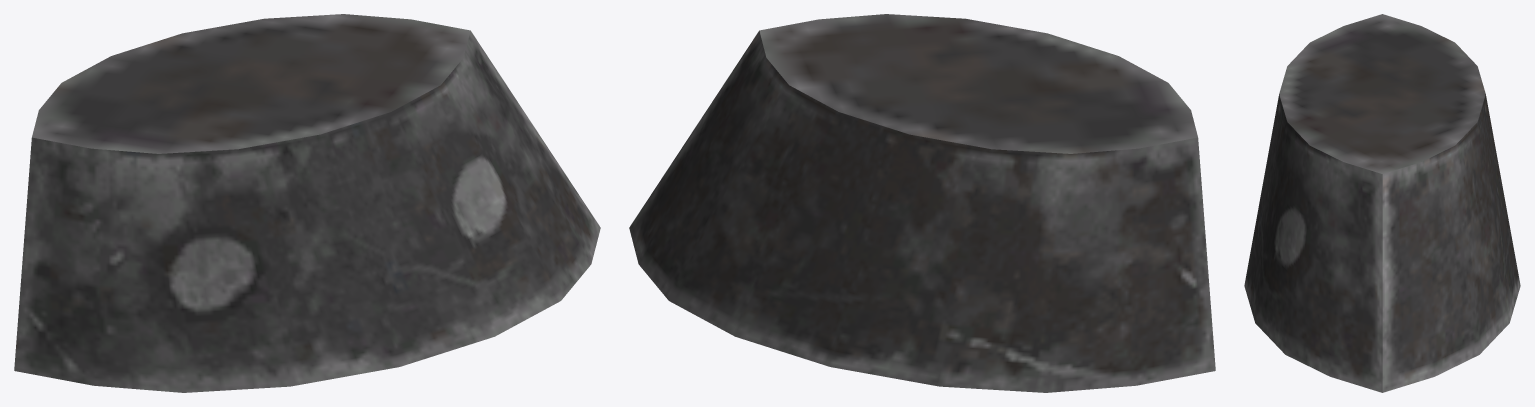
The model's file is sm_uruk_sword_pommel_a1.fbx.
3 views of the same model, side by side, from view 1: azimuth 30°, elevation 25°; view 2: azimuth 150°, elevation 25°; view 3: azimuth 270°, elevation 25° (orthographic). The views are drawn at different scales.
Visible parts, largest first — view 1: sm_uruk_sword_pommel_a1; view 2: sm_uruk_sword_pommel_a1; view 3: sm_uruk_sword_pommel_a1.
Boxes of the visible parts, x1,y1,x2,y2 form: sm_uruk_sword_pommel_a1: (14, 14, 600, 392); sm_uruk_sword_pommel_a1: (629, 14, 1215, 392); sm_uruk_sword_pommel_a1: (1244, 14, 1520, 392).
Size of the model in its own units: 0.0886 by 0.0483 by 0.0331.
1 material, 1 textured.
